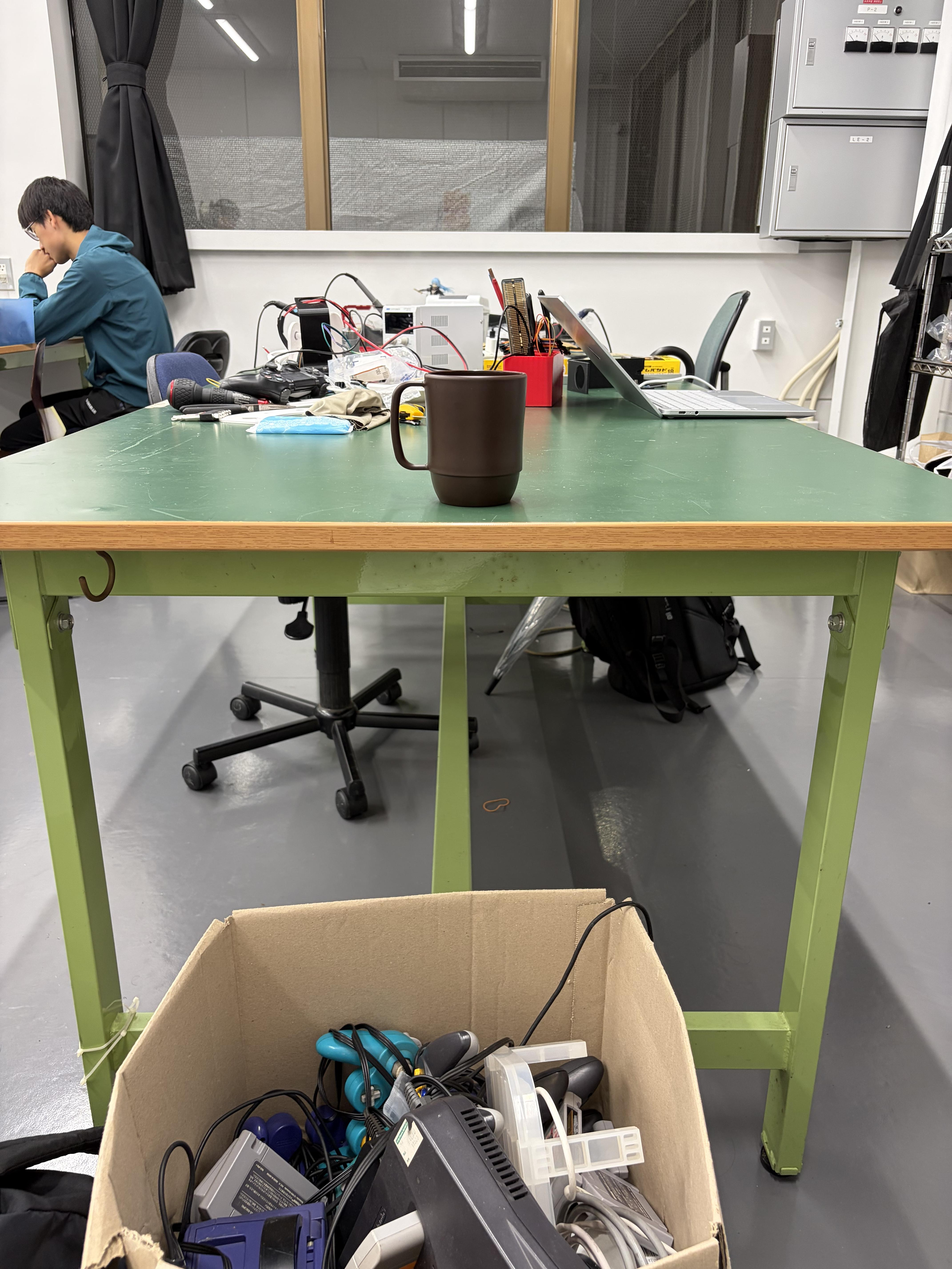mug-real100-3d100: (390, 369, 528, 508)
